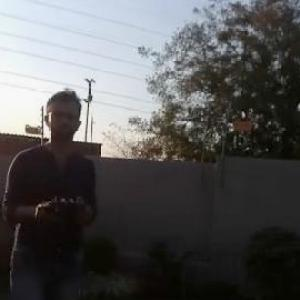follow: (0, 81, 101, 299)
